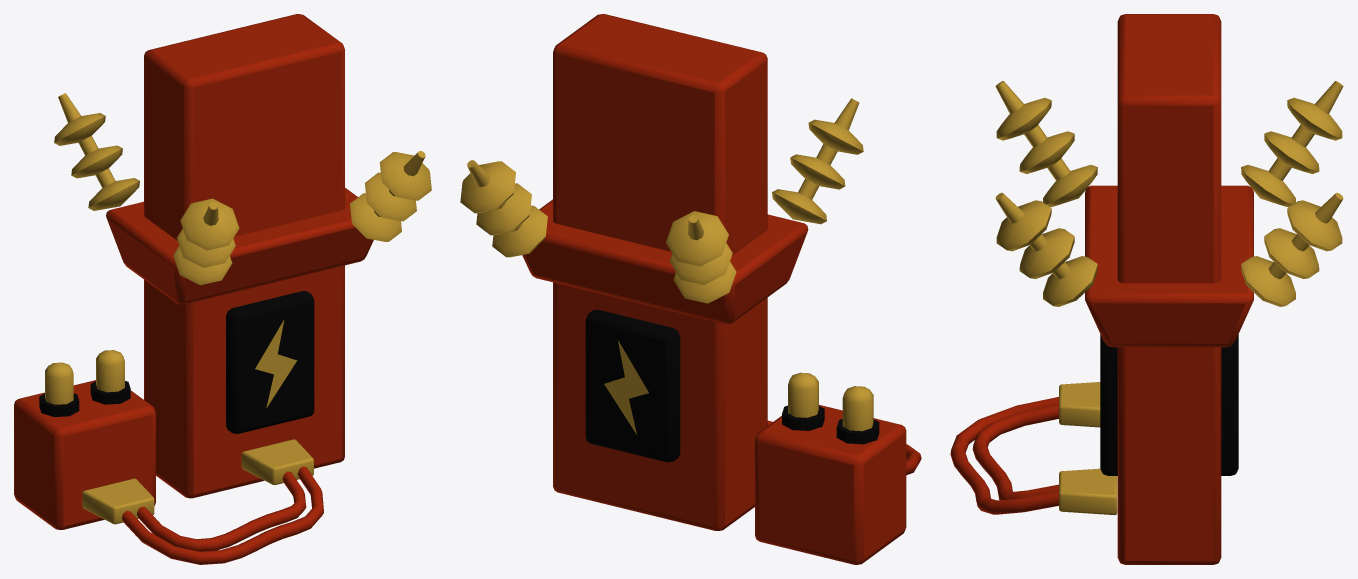
The model's file is Battery Factory Inside Solid.fbx.
The picture shows the model from 3 angles, left to right: view 1: azimuth 30°, elevation 25°; view 2: azimuth 150°, elevation 25°; view 3: azimuth 270°, elevation 25°; orthographic projection. The views are drawn at different scales.
Parts seen in each view (by area): view 1: Battery Factory Inside; view 2: Battery Factory Inside; view 3: Battery Factory Inside.
Part boxes in pixels (x1,y1,x2,y2): Battery Factory Inside: [14, 14, 431, 564]; Battery Factory Inside: [460, 14, 921, 564]; Battery Factory Inside: [950, 14, 1343, 564].
Bounding box in the file's own units: 414 × 500 × 379.
